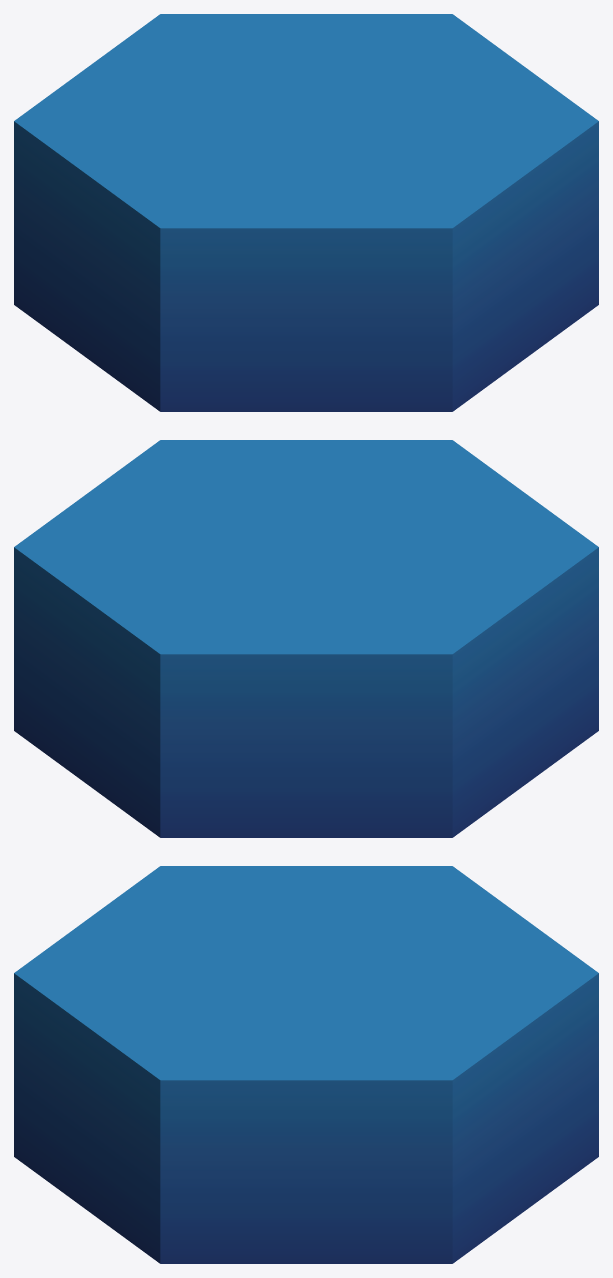
File: hex-water.glb
The picture shows the model from 3 angles, top to bottom: view 1: azimuth 30°, elevation 25°; view 2: azimuth 150°, elevation 25°; view 3: azimuth 270°, elevation 25°; orthographic projection.
Parts seen in each view (by area): view 1: hex_water; view 2: hex_water; view 3: hex_water.
Part boxes in pixels (x1=…): hex_water: x1=14, y1=14, x2=598, y2=411; hex_water: x1=14, y1=440, x2=598, y2=837; hex_water: x1=14, y1=866, x2=598, y2=1263.
Size of the model in its own units: 2 by 0.8 by 2.31.
1 material, 1 textured.
